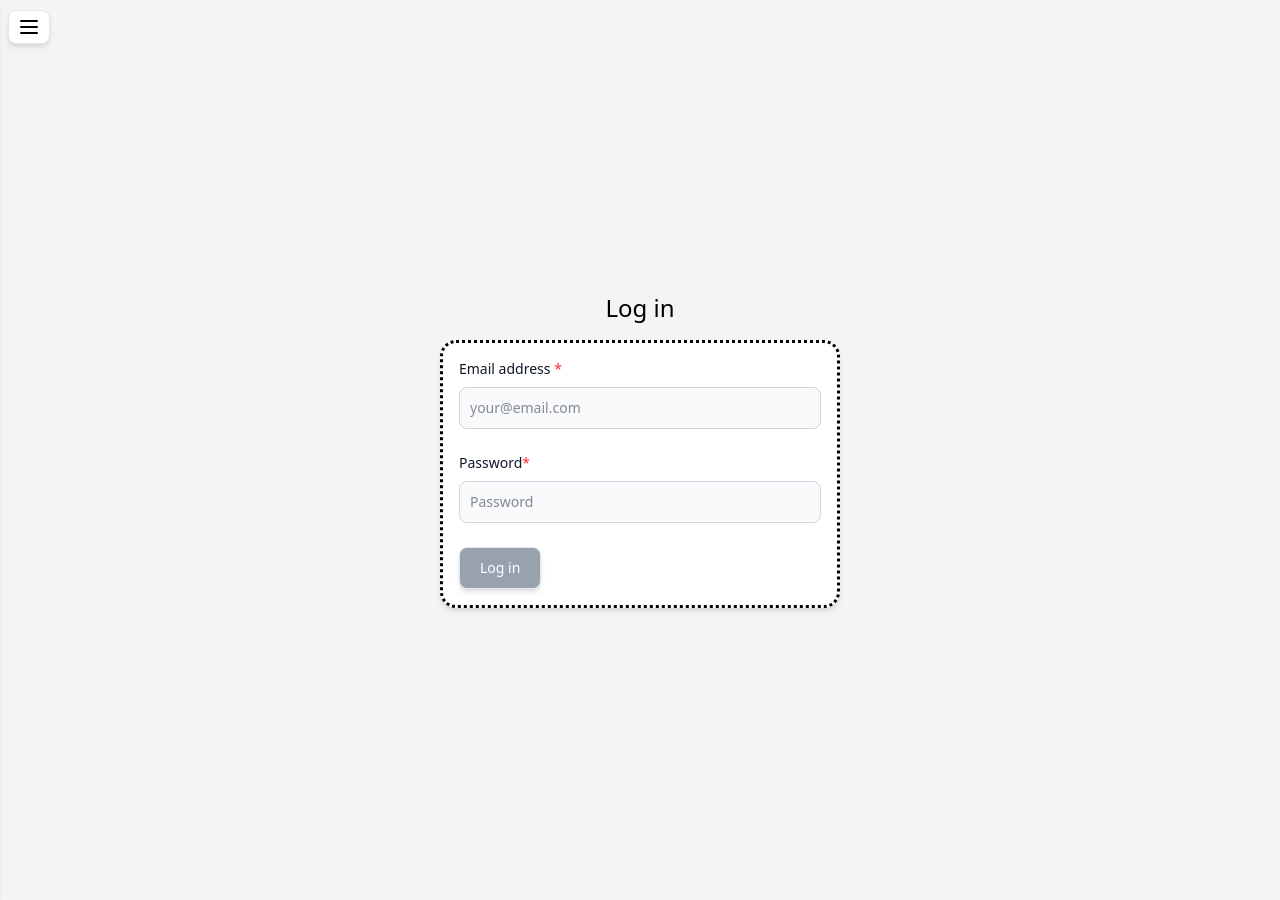
Login › should succesfully log in and redirect to /home/experience
Expected: the button with test id "login-submit-btn" is shown, [459,547,541,589]
Type "admin@example.com" into the field with placeholder "your@email.com" at [640, 408], box [459,387,821,429]
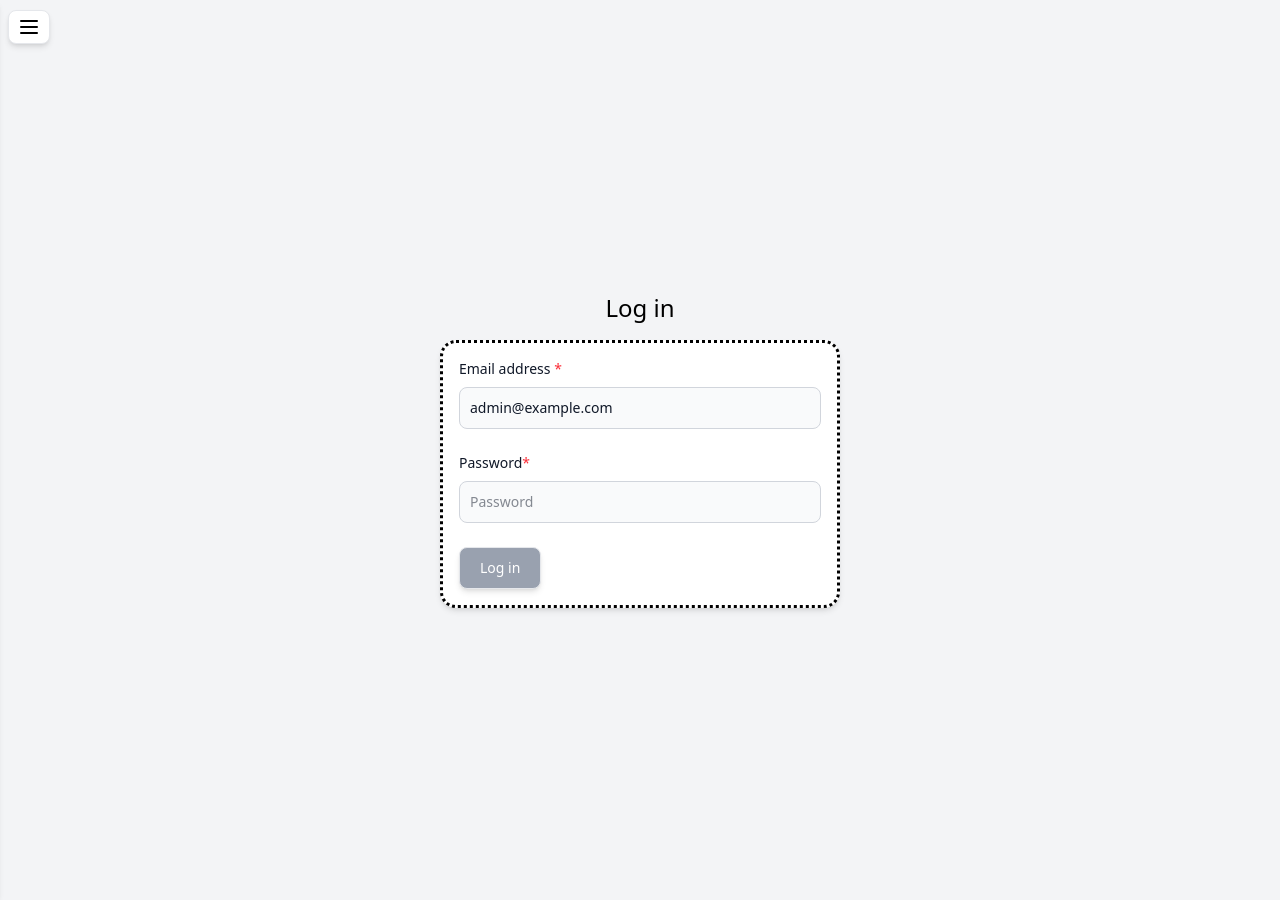
Type "password123" into the password field with placeholder "Password" at [640, 502], box [459,481,821,523]
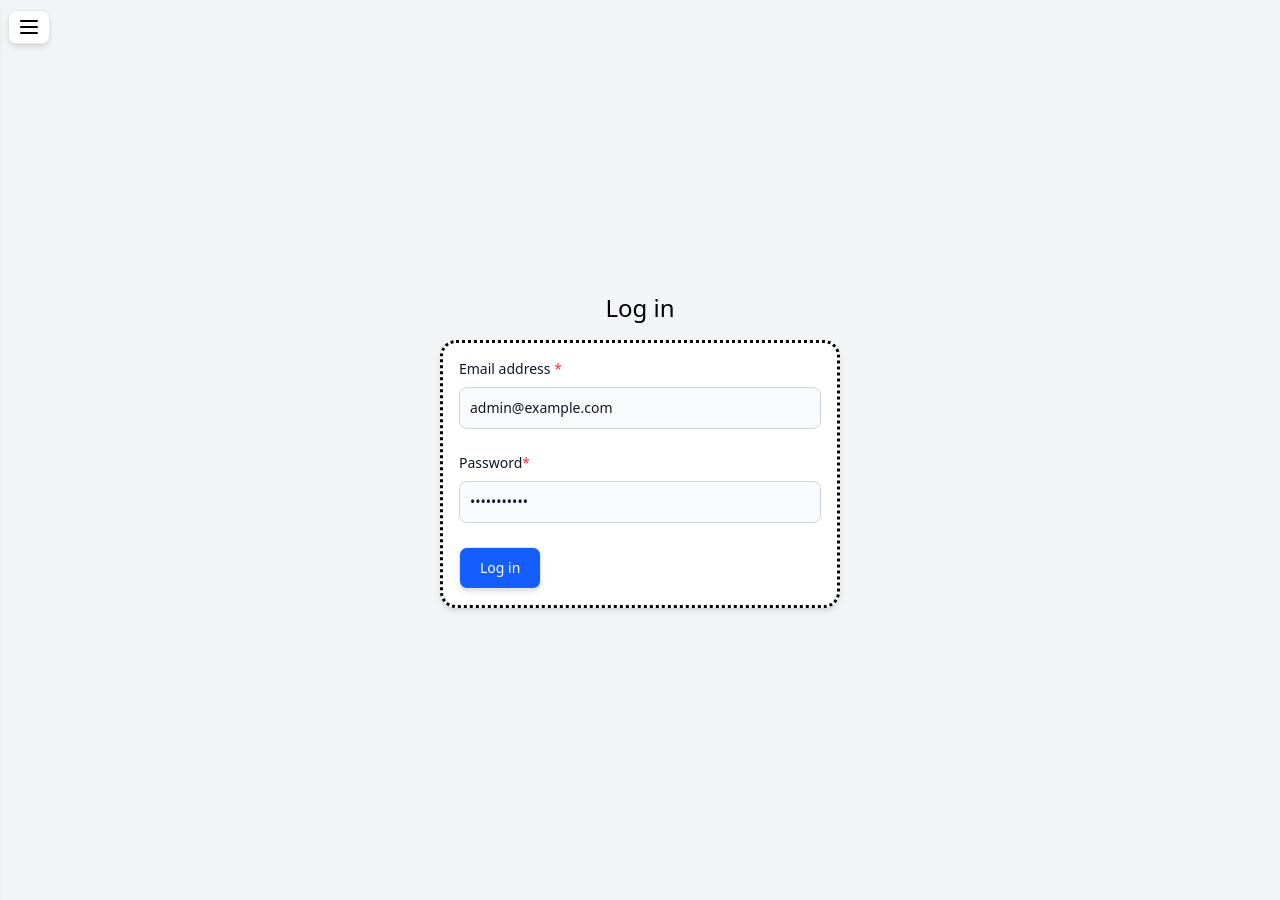
Click the button with test id "login-submit-btn" at [500, 568], box [459,547,541,589]
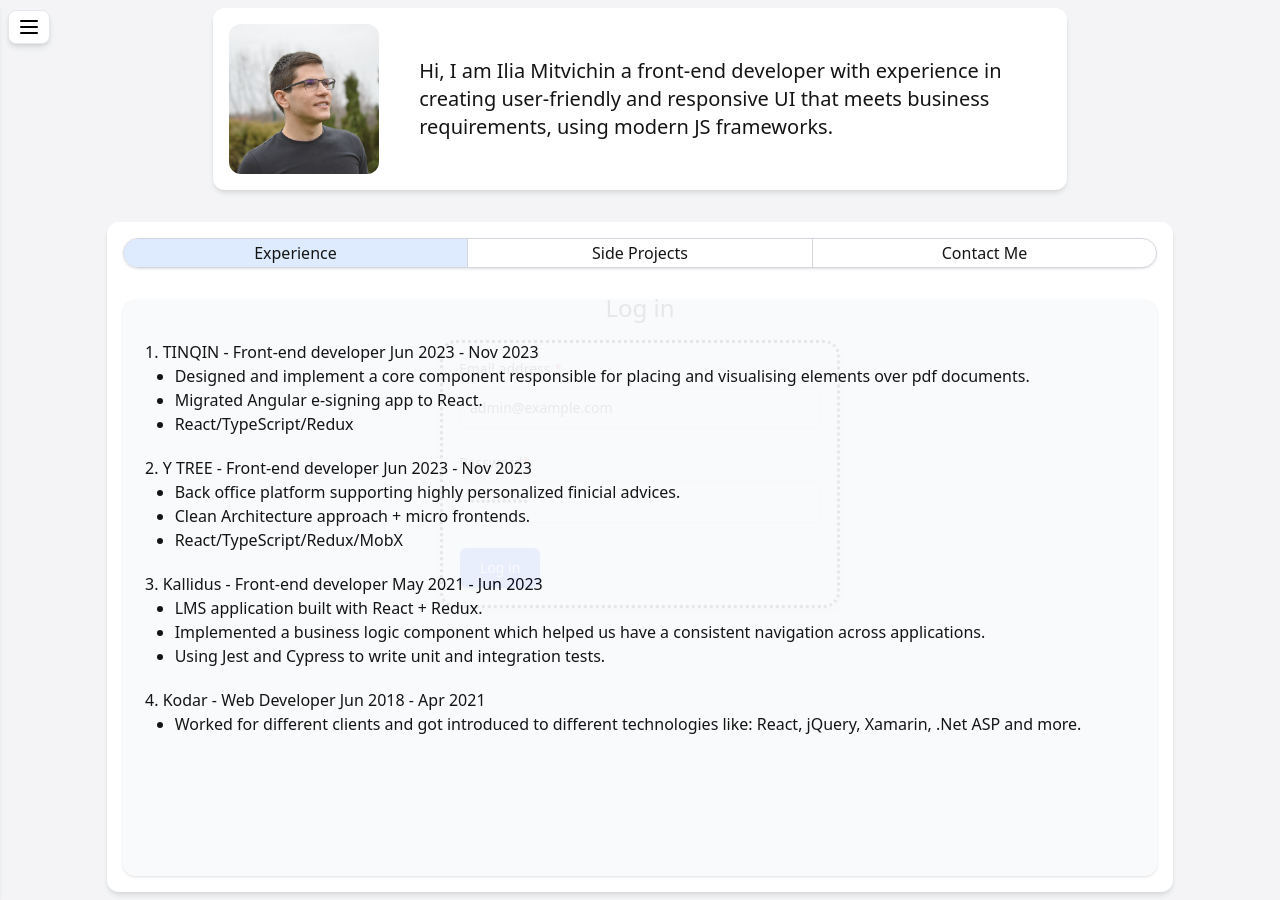
Result: the text "Experience" is shown at [254,241,337,265]
